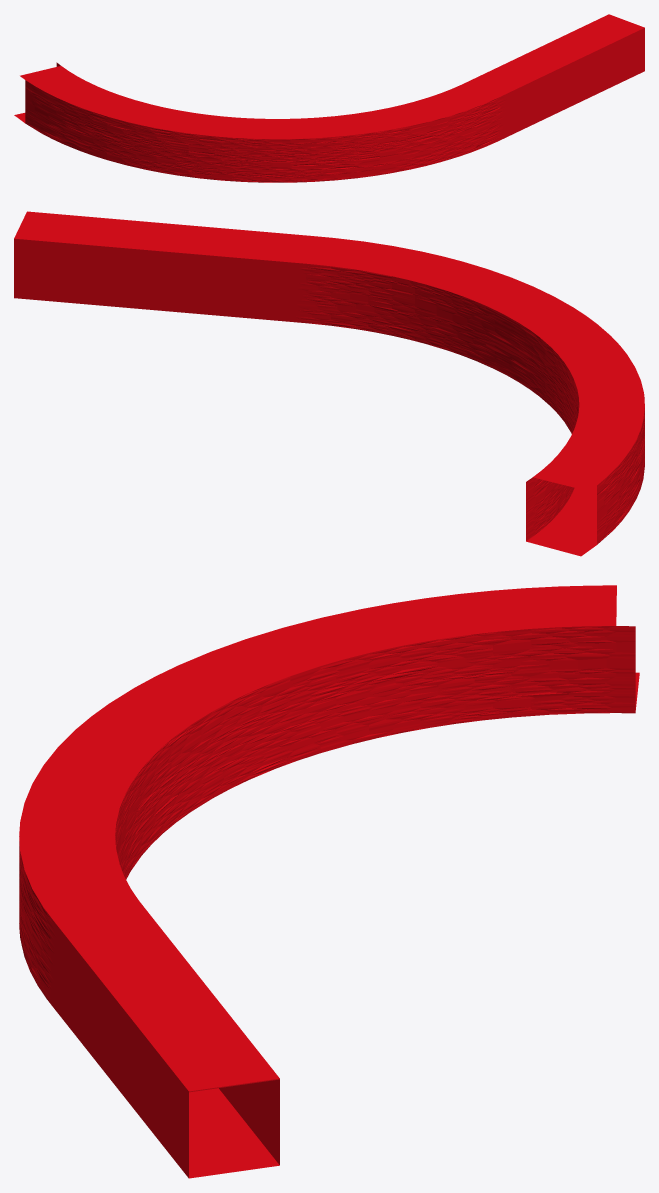
Rendered from bend.fbx.
The picture shows the model from 3 angles, top to bottom: view 1: azimuth 30°, elevation 25°; view 2: azimuth 150°, elevation 25°; view 3: azimuth 270°, elevation 25°; orthographic projection. The views are drawn at different scales.
Parts seen in each view (by area): view 1: Cube; view 2: Cube; view 3: Cube.
Boxes of the visible parts, x1,y1,x2,y2 form: Cube: [14, 14, 644, 182]; Cube: [14, 211, 644, 556]; Cube: [19, 585, 639, 1178].
Bounding box in the file's own units: 2493 × 200 × 1292.
